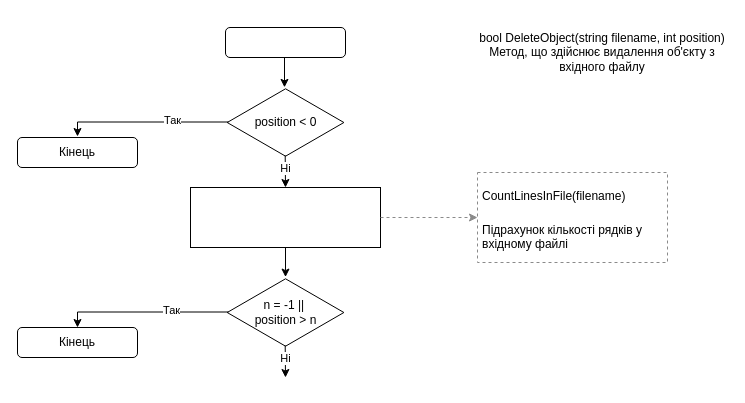
This 745x403 diagram has some shape labels left out. The box of each missing label's shape, as (x1, y1, x2, y2) in pixels:
string* lines; int n; n = CountLinesInFile(filename);: (190, 186, 380, 248)
Початок: (224, 26, 346, 58)
